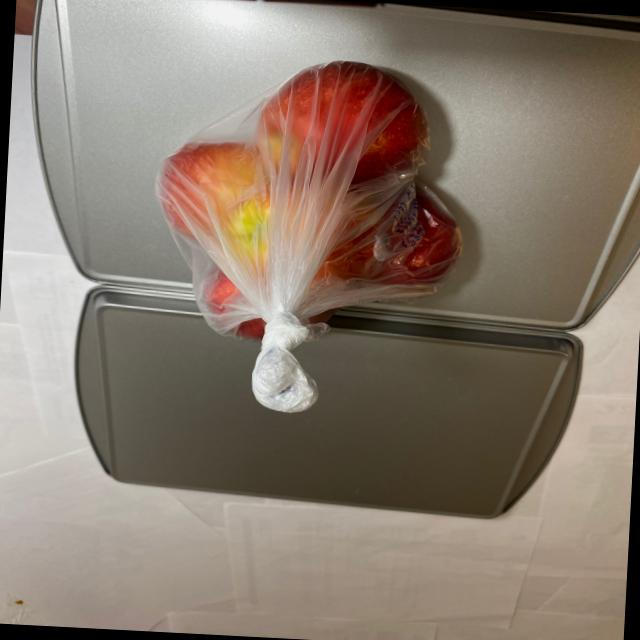apple: (143, 46, 477, 354)
